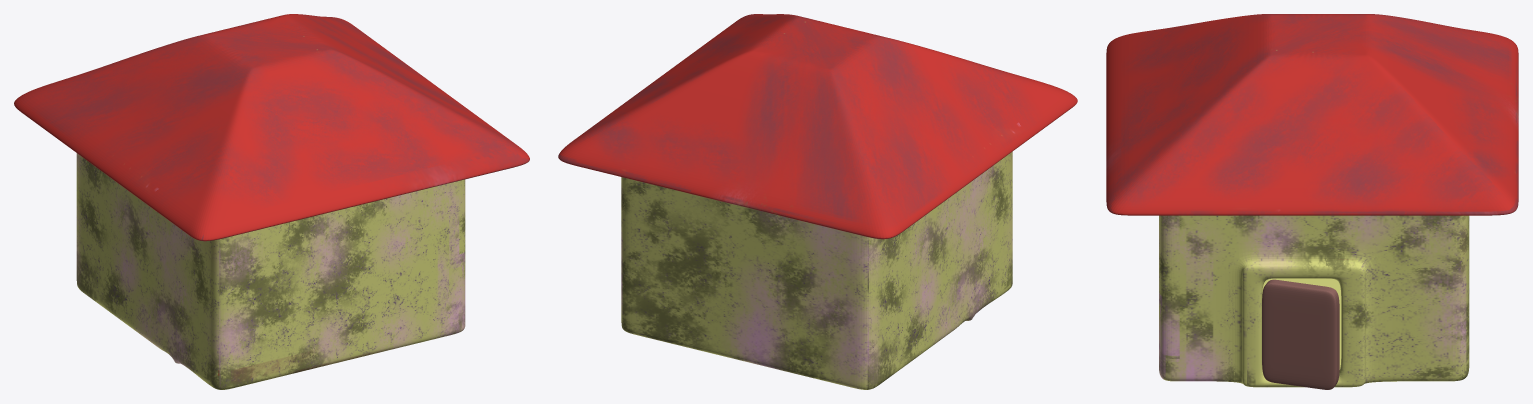
The model's file is End house.fbx.
3 renders of one model, left to right at view 1: azimuth 30°, elevation 25°; view 2: azimuth 150°, elevation 25°; view 3: azimuth 270°, elevation 25°, orthographic. The views are drawn at different scales.
Parts seen in each view (by area): view 1: End house; view 2: End house; view 3: End house, Outer door.
Part boxes in pixels (box(x1,y1,x2,y2)): End house: box(14, 14, 529, 389); End house: box(558, 14, 1077, 389); End house: box(1106, 14, 1518, 387); Outer door: box(1262, 279, 1339, 389).
Bounding box in the file's own units: 617 × 617 × 470.
Materials: 2 (1 with a texture image).
